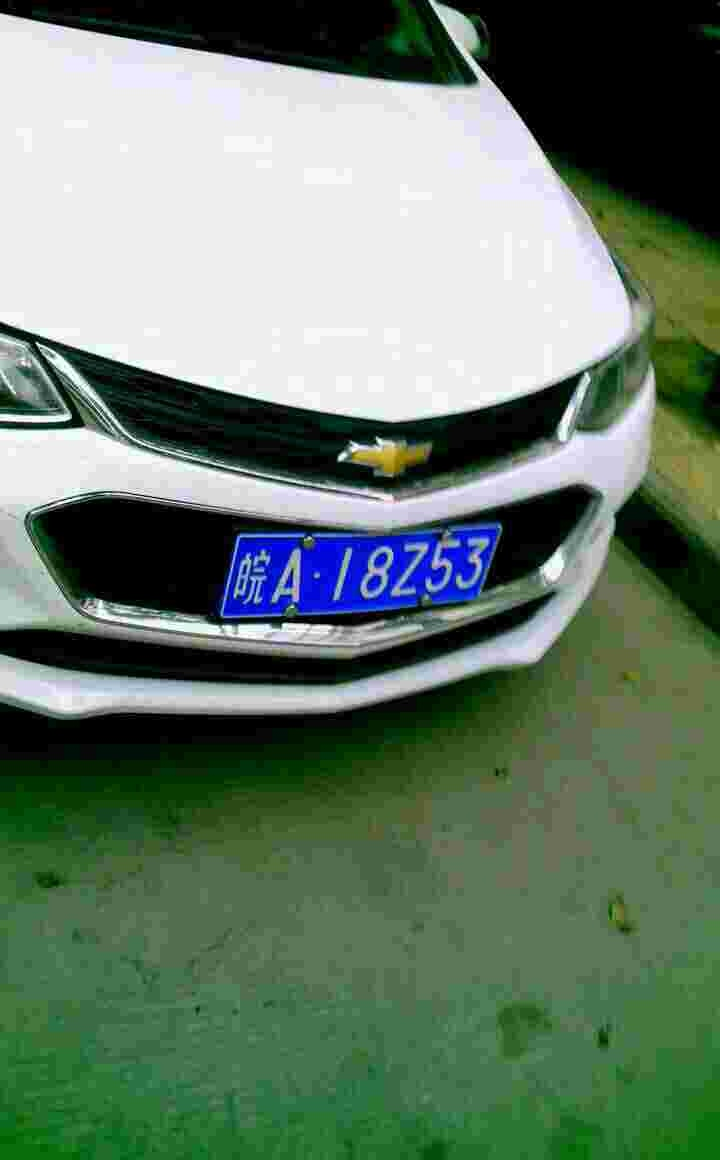car: (232, 529, 506, 605)
